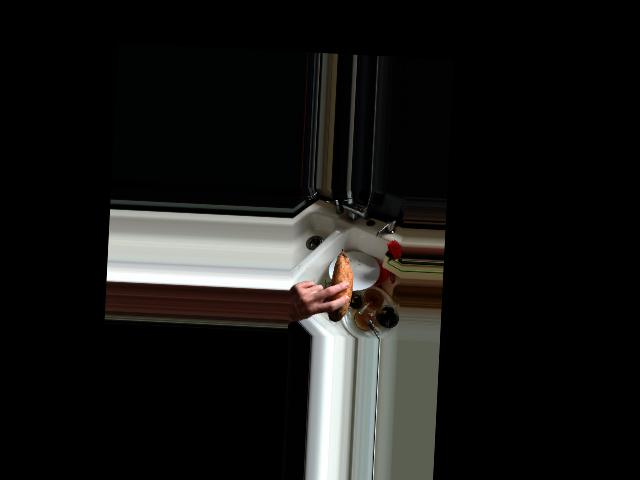sweet_potato: (323, 245, 354, 325)
